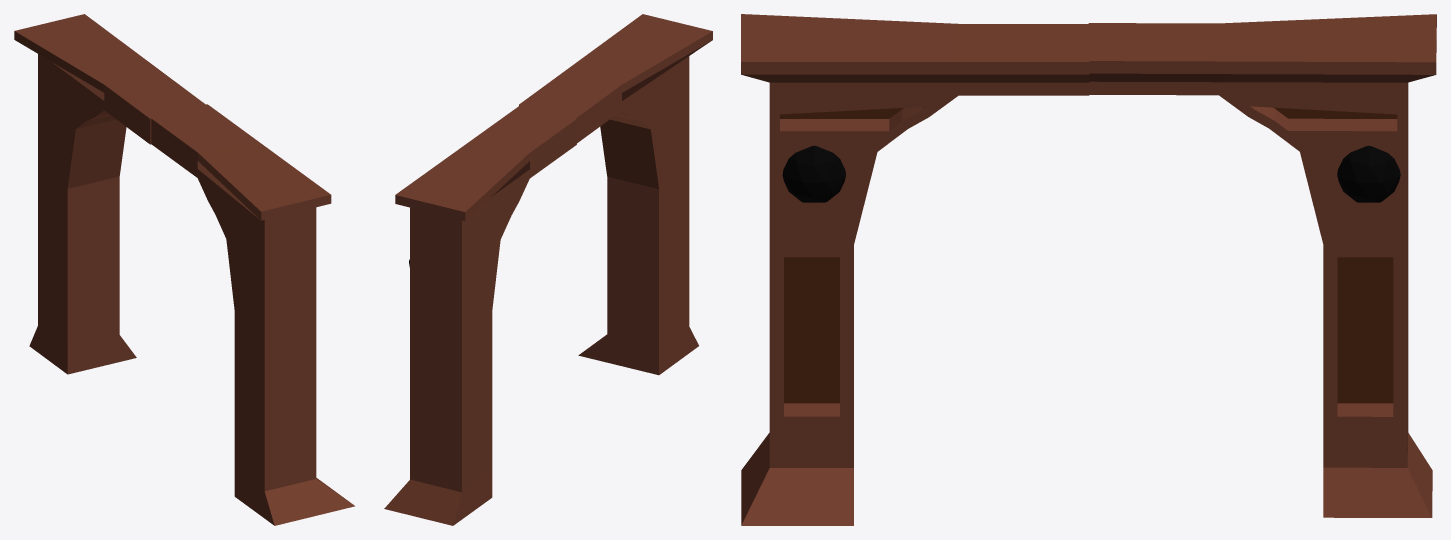
The model's file is bridge.fbx.
3 renders of one model, left to right at view 1: azimuth 30°, elevation 25°; view 2: azimuth 150°, elevation 25°; view 3: azimuth 270°, elevation 25°, orthographic. The views are drawn at different scales.
Visible parts, largest first — view 1: Cube.001; view 2: Cube.001; view 3: Cube.001.
Part boxes in pixels (x1,y1,x2,y2): Cube.001: [14, 14, 354, 525]; Cube.001: [384, 14, 712, 525]; Cube.001: [741, 14, 1436, 525].
Size of the model in its own units: 364 by 1170 by 1650.
